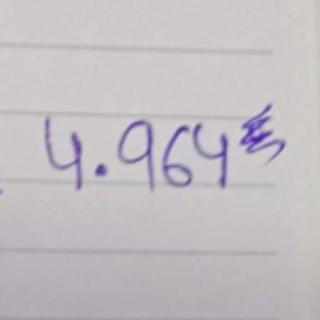.: (92, 161, 110, 180)
4: (40, 115, 86, 191), (190, 119, 232, 189)
6: (163, 124, 193, 190)
9: (116, 118, 157, 190)
